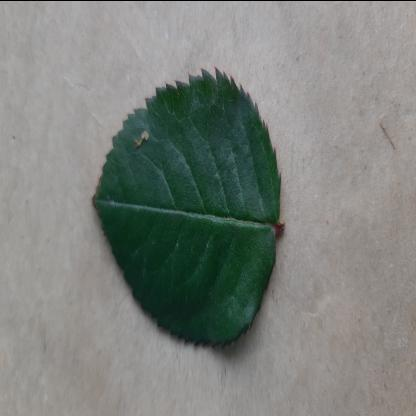normal: (92, 68, 280, 352)
